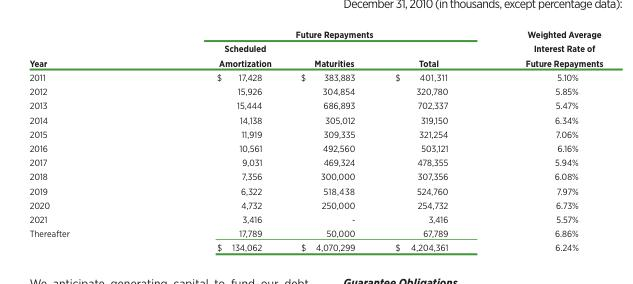table: (28, 28, 602, 252)
table column: (142, 28, 285, 252), (485, 28, 602, 252), (28, 28, 142, 252), (374, 28, 485, 252), (285, 28, 374, 252)
table column header: (28, 28, 602, 69)
table row: (28, 41, 602, 69), (28, 97, 602, 112), (28, 168, 602, 183), (28, 225, 602, 240), (28, 69, 602, 83), (28, 83, 602, 97), (28, 112, 602, 126), (28, 126, 602, 140), (28, 140, 602, 154), (28, 154, 602, 168), (28, 183, 602, 197), (28, 197, 602, 211), (28, 211, 602, 225), (28, 28, 602, 41), (28, 240, 602, 252)
table spanning cell: (485, 28, 602, 69), (28, 28, 142, 69), (142, 28, 485, 41)
